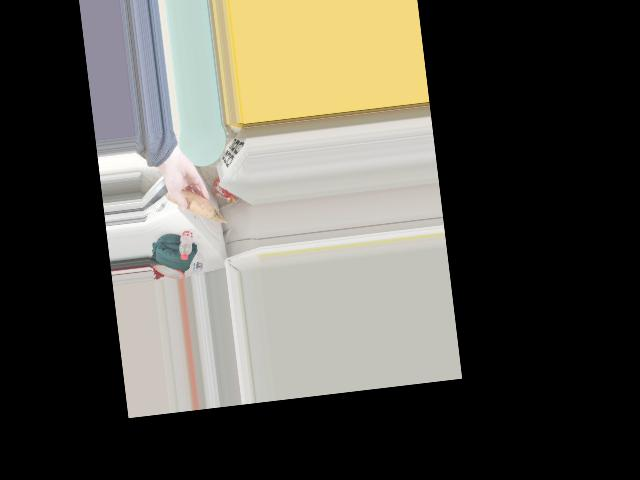sweet_potato: (175, 187, 210, 221)
